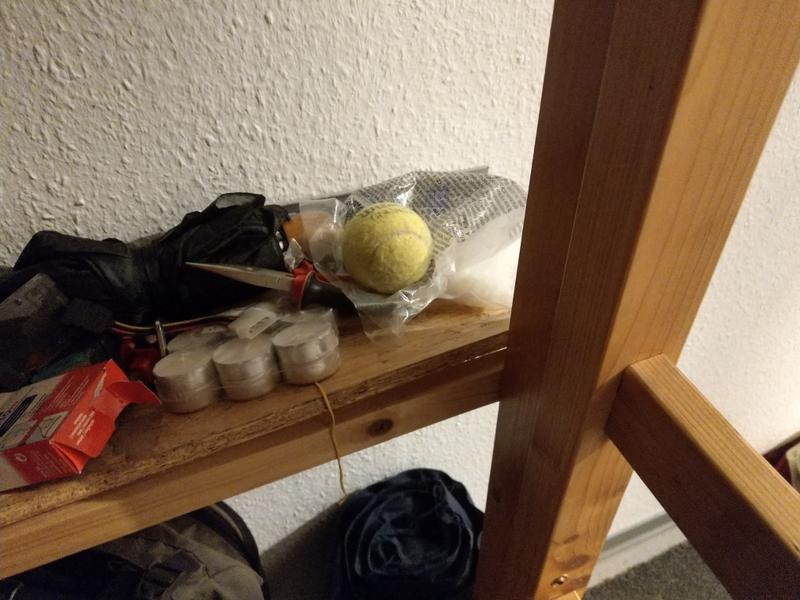Tennisball: (340, 199, 438, 294)
